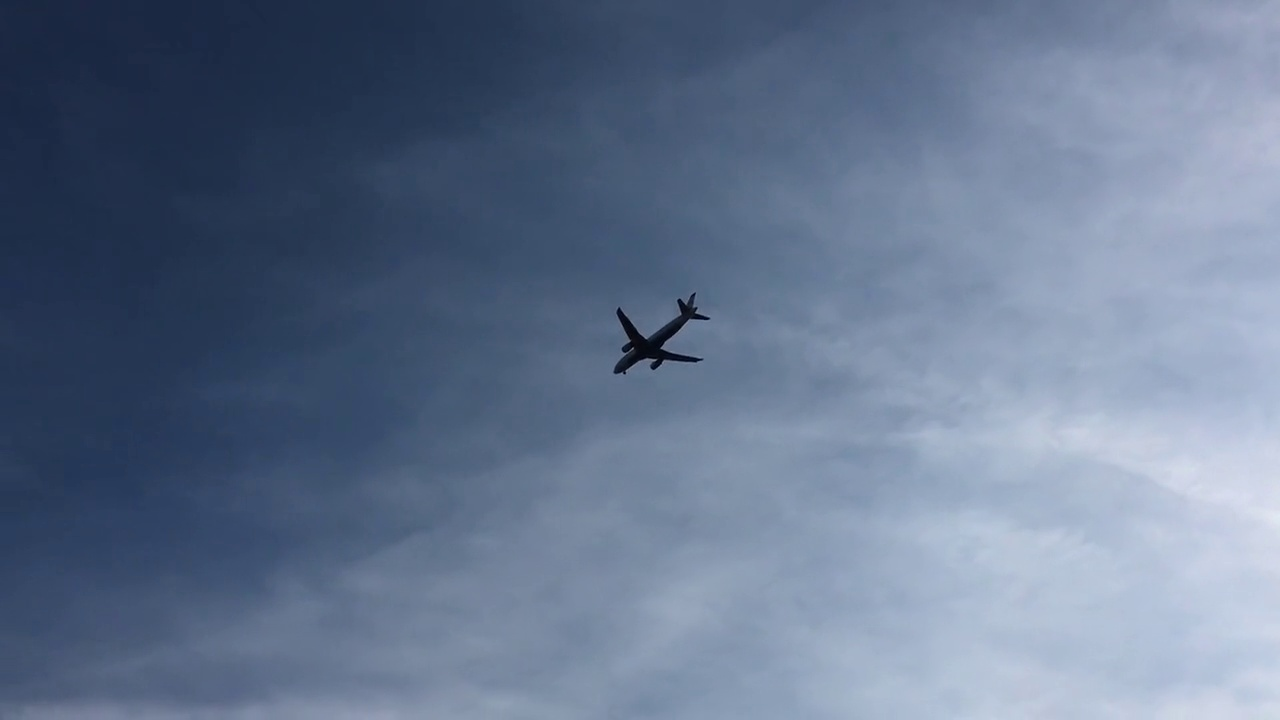plane: (611, 291, 710, 374)
